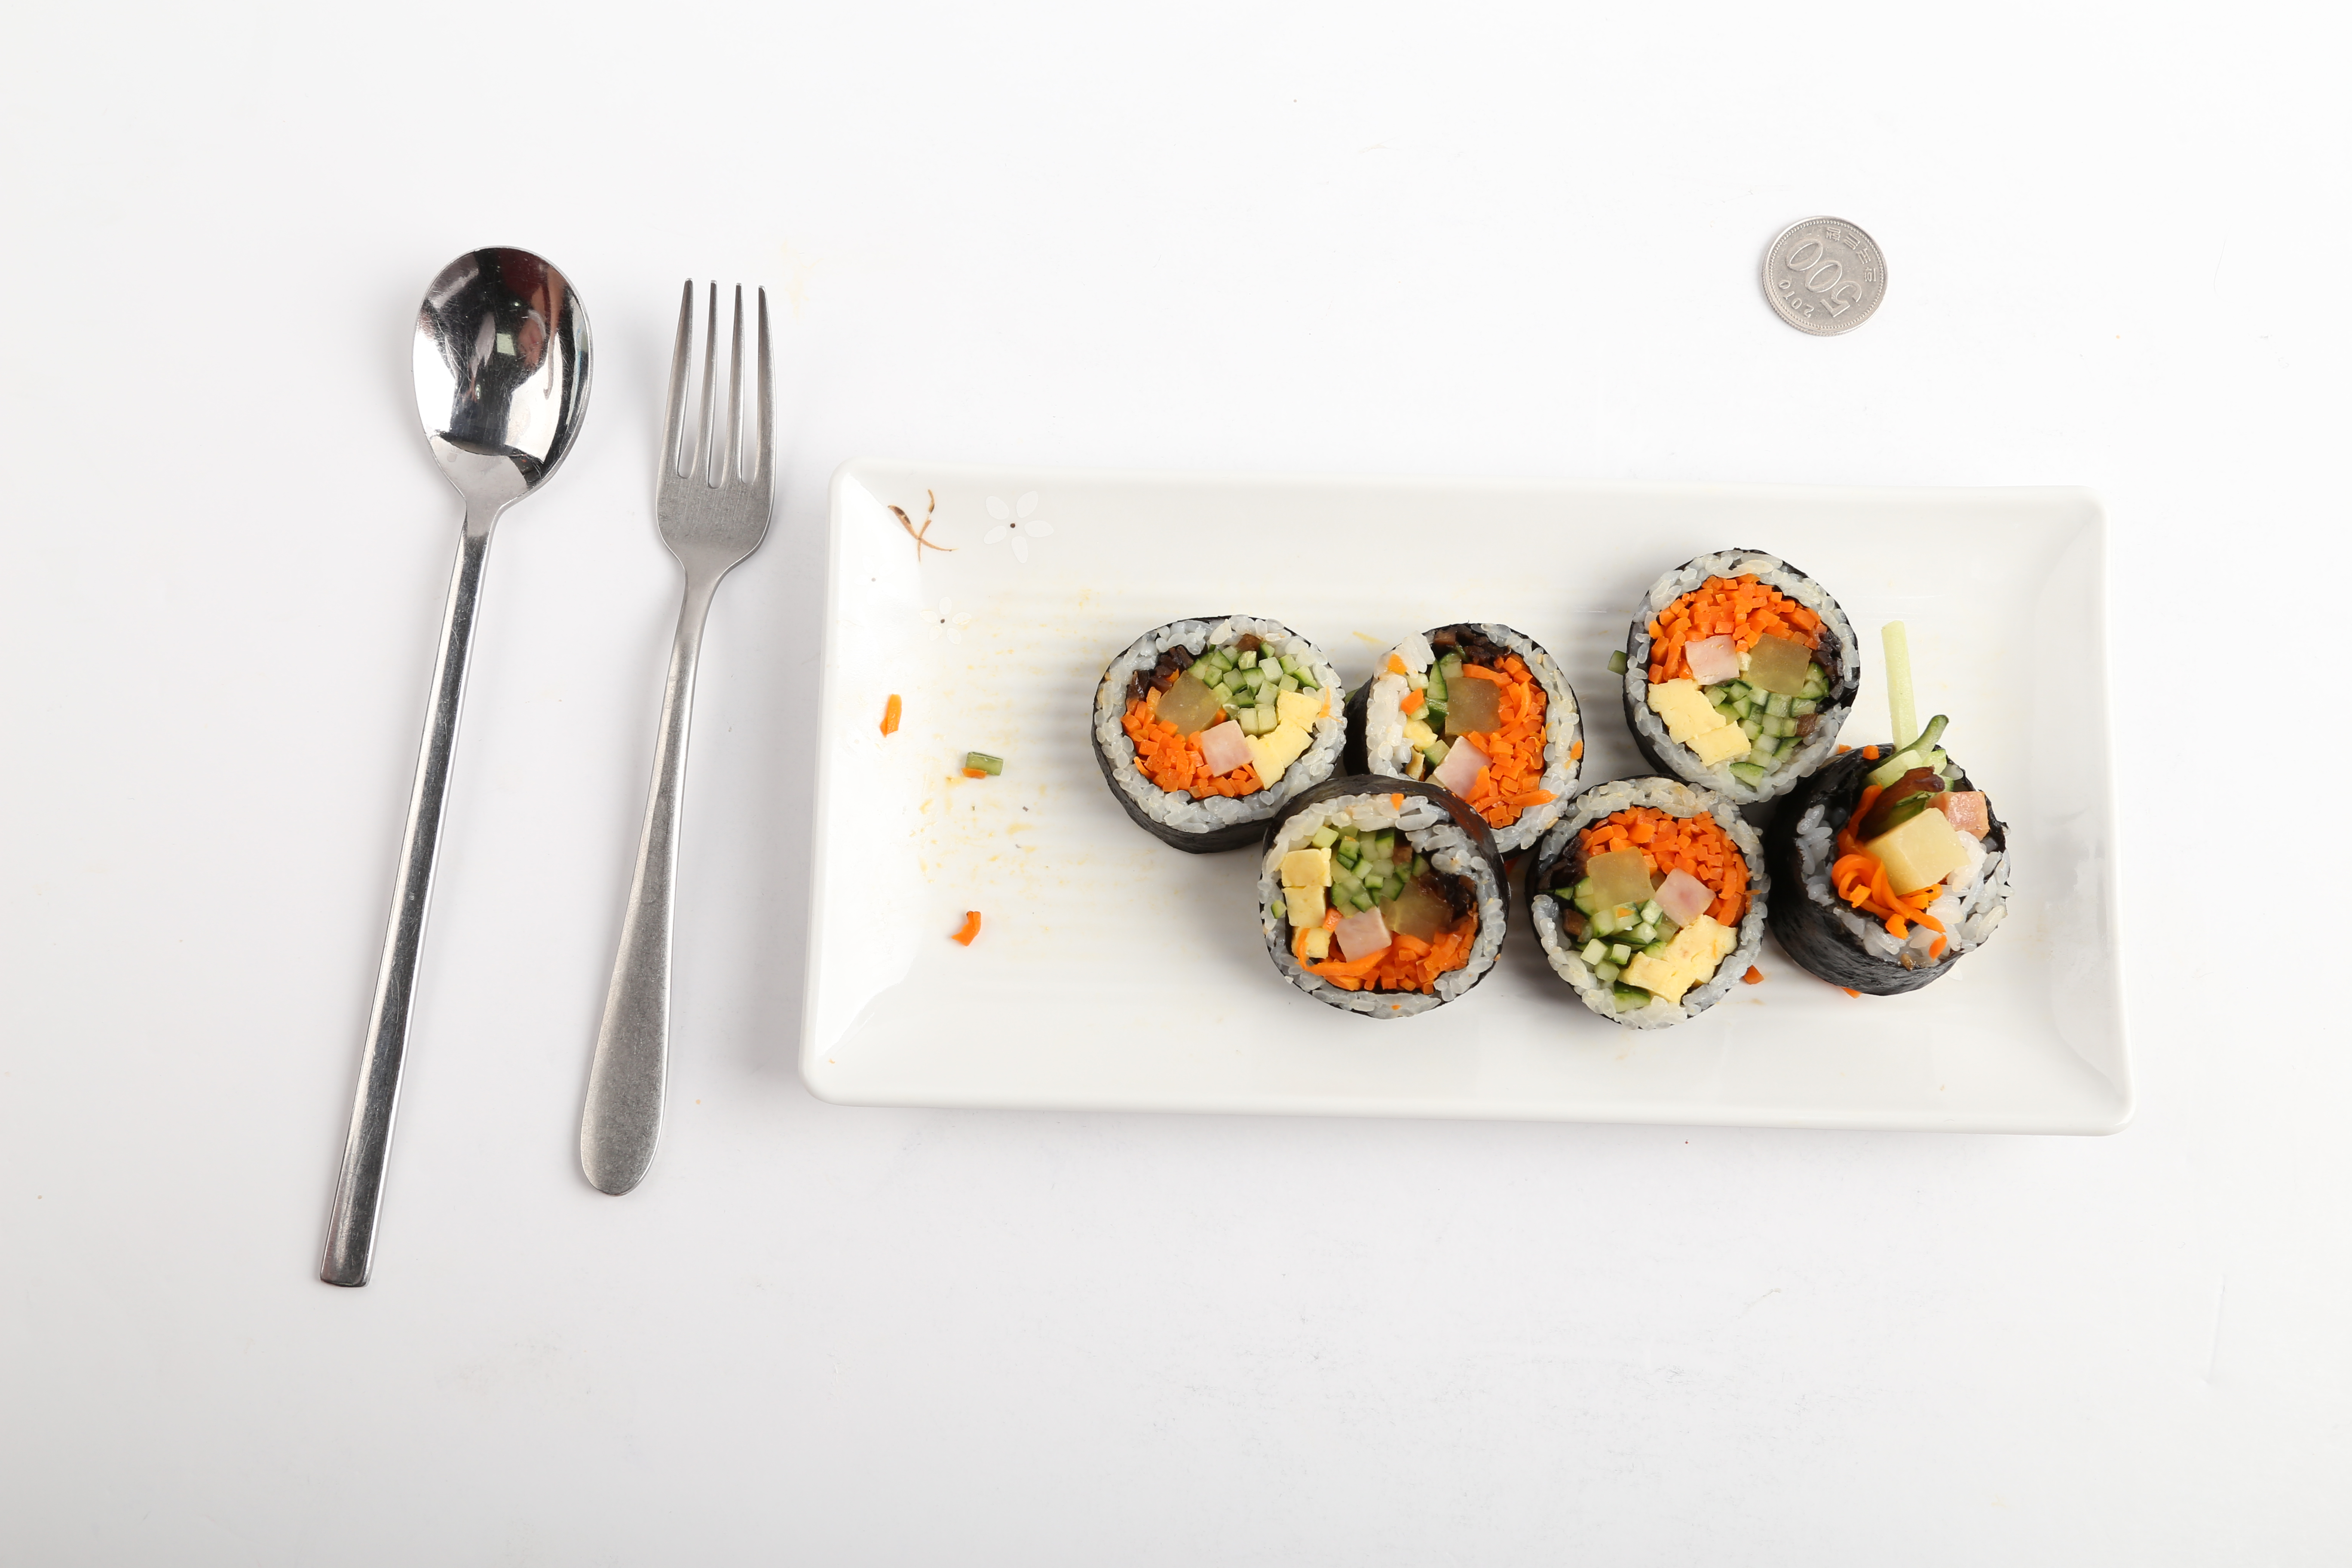dish: (803, 472, 2145, 1144)
ref_coin: (1752, 206, 1892, 341)
ref_fork: (644, 282, 782, 614)
ref_spoon: (401, 241, 595, 579)
김밥: (1088, 544, 2011, 1029)
